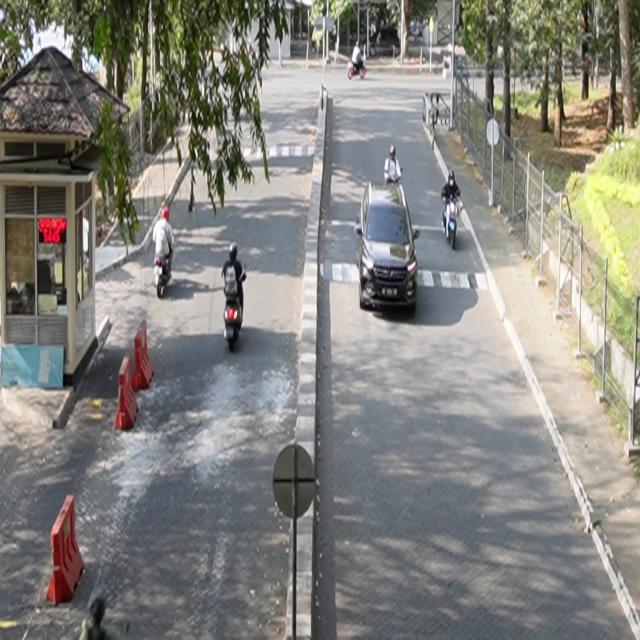car: (355, 181, 421, 313)
